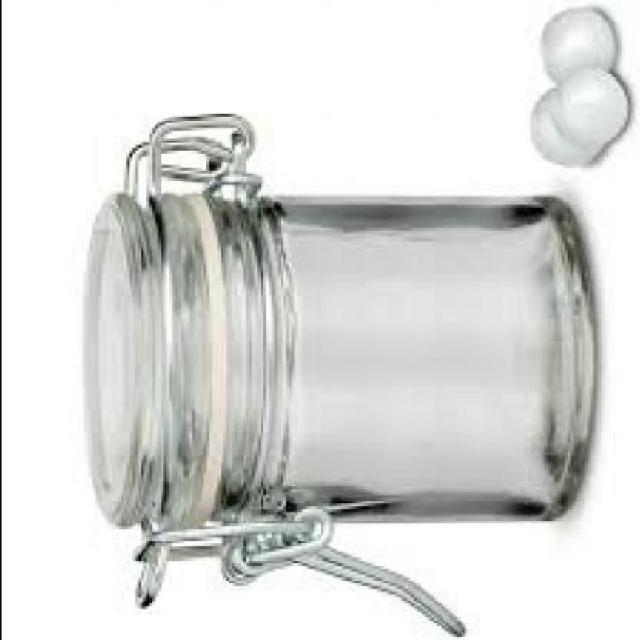GLASS: (80, 111, 588, 526)
METAL: (128, 518, 461, 628)
